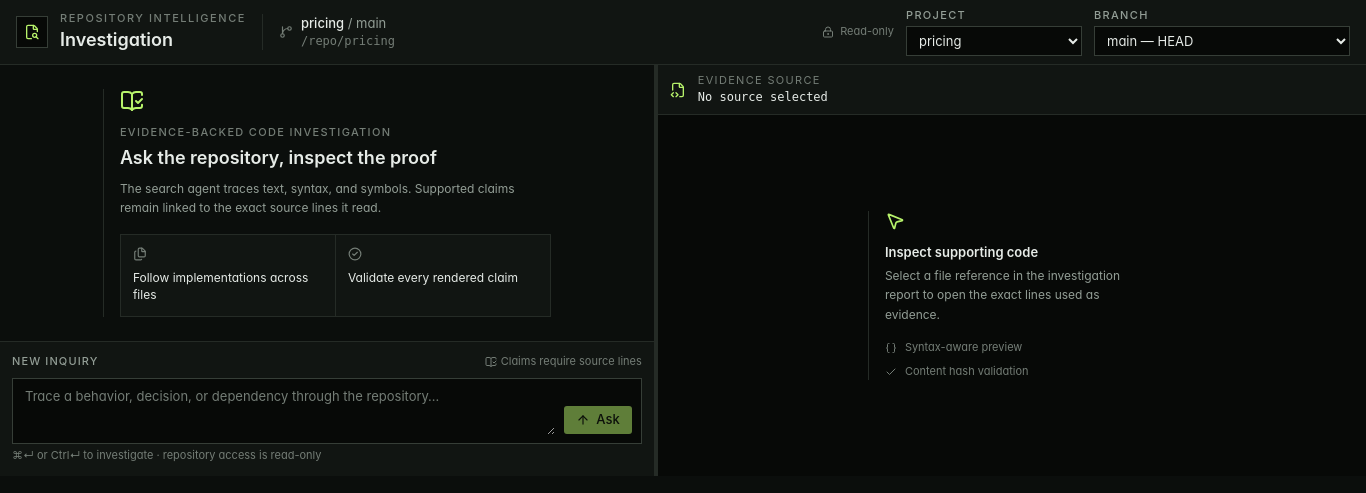
it: code search route › refuses to render a server claim without a linked citation
This screenshot has width=1366, height=493.
Replace the text in the text box named "Repository question" with "Make an unsupported claim" at (288, 411), box [21,387,555,435]
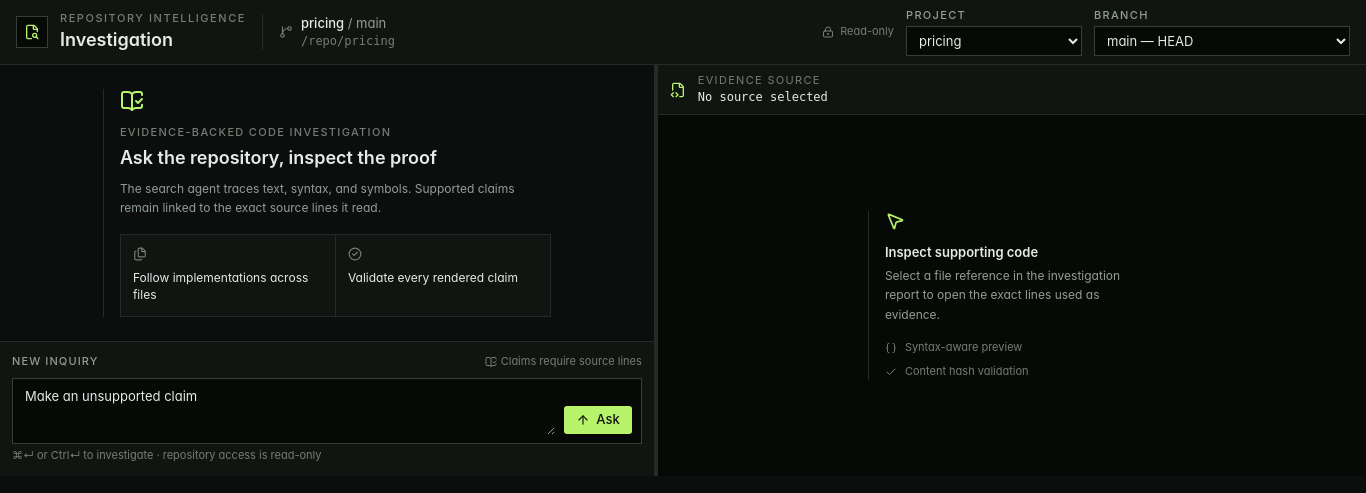
Click the button "Ask".
click(598, 420)  # box [563,405,633,435]
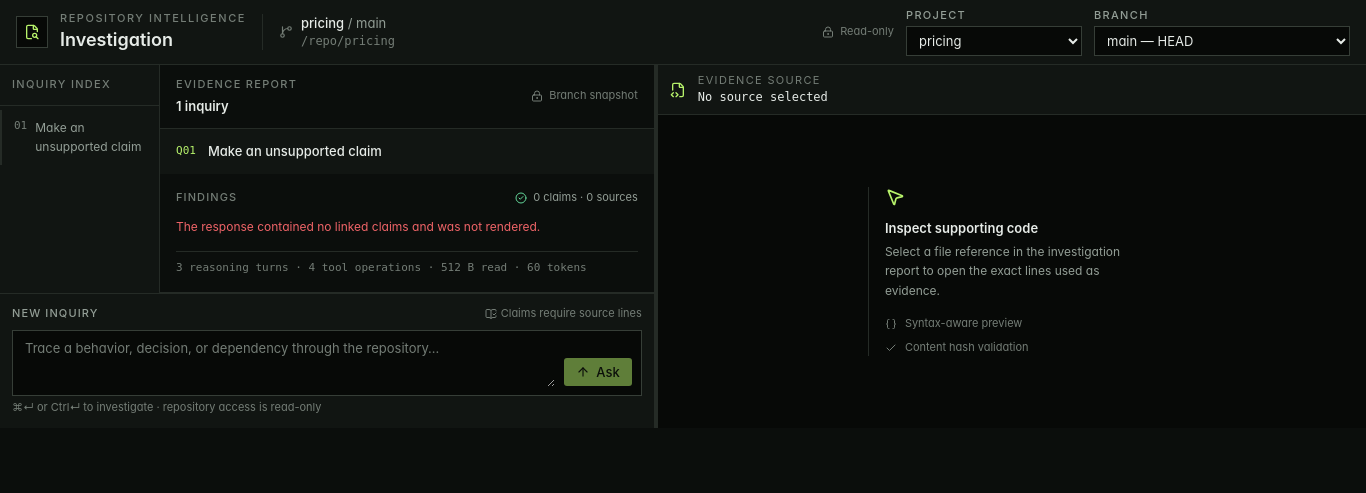
Expected: the text "The response contained no linked claims and was not rendered." is shown, [176,219,540,234]
